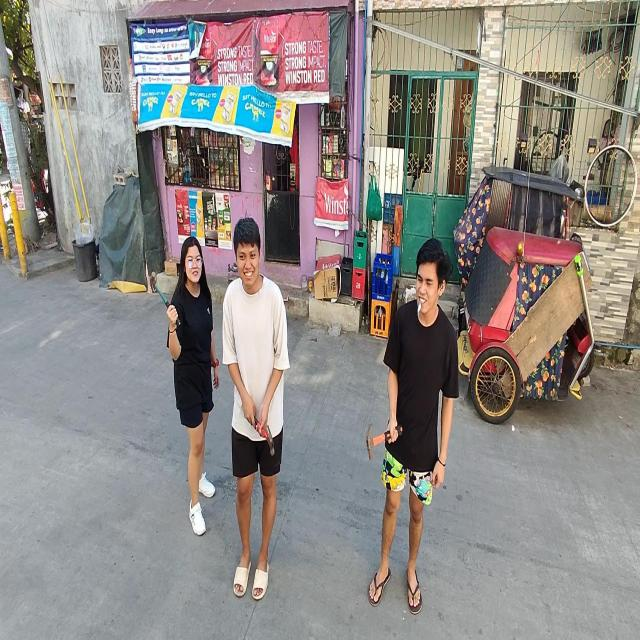hammer: (150, 272, 181, 326), (366, 424, 403, 461), (254, 416, 275, 456)
